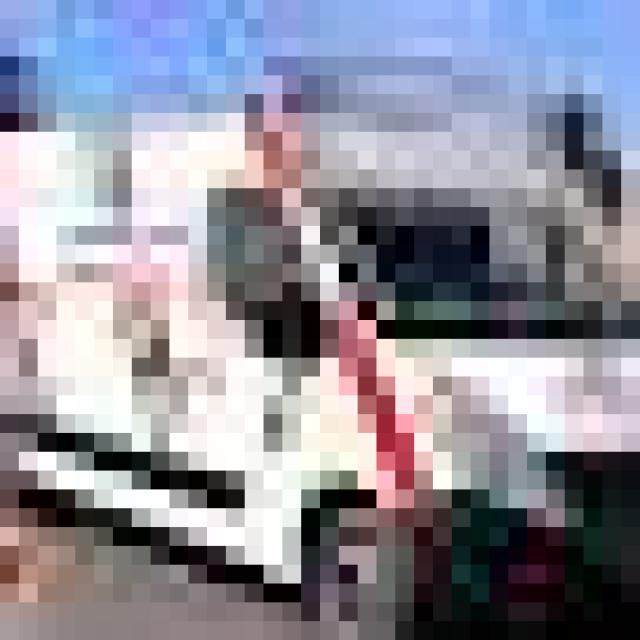police: (0, 75, 640, 621)
